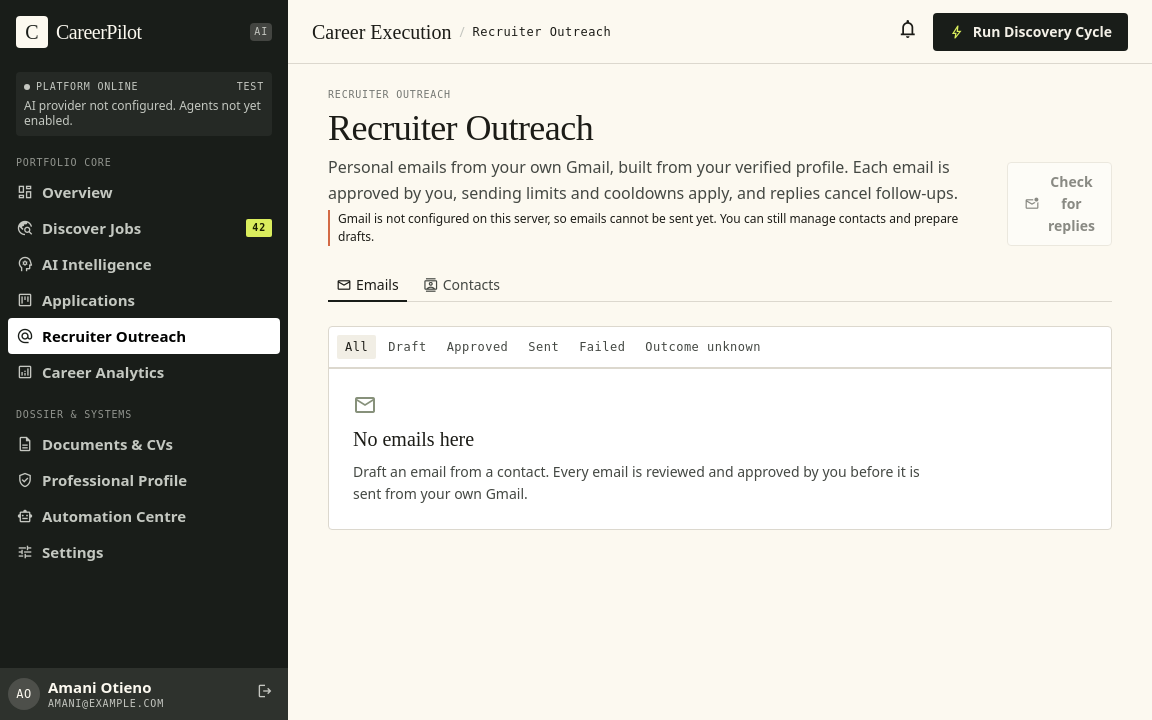
Scenario: recruiter outreach › says honestly when Gmail is not configured and shows where contacts came from
The image size is (1152, 720).
Check: the text "Gmail is not configured on this server" is shown, box top-left (338, 210), bottom-right (958, 245)
Check: the button "Check for replies" is disabled, box top-left (1007, 162), bottom-right (1112, 246)
Click the tab "Contacts".
click(461, 286)  # box top-left (415, 270), bottom-right (508, 302)
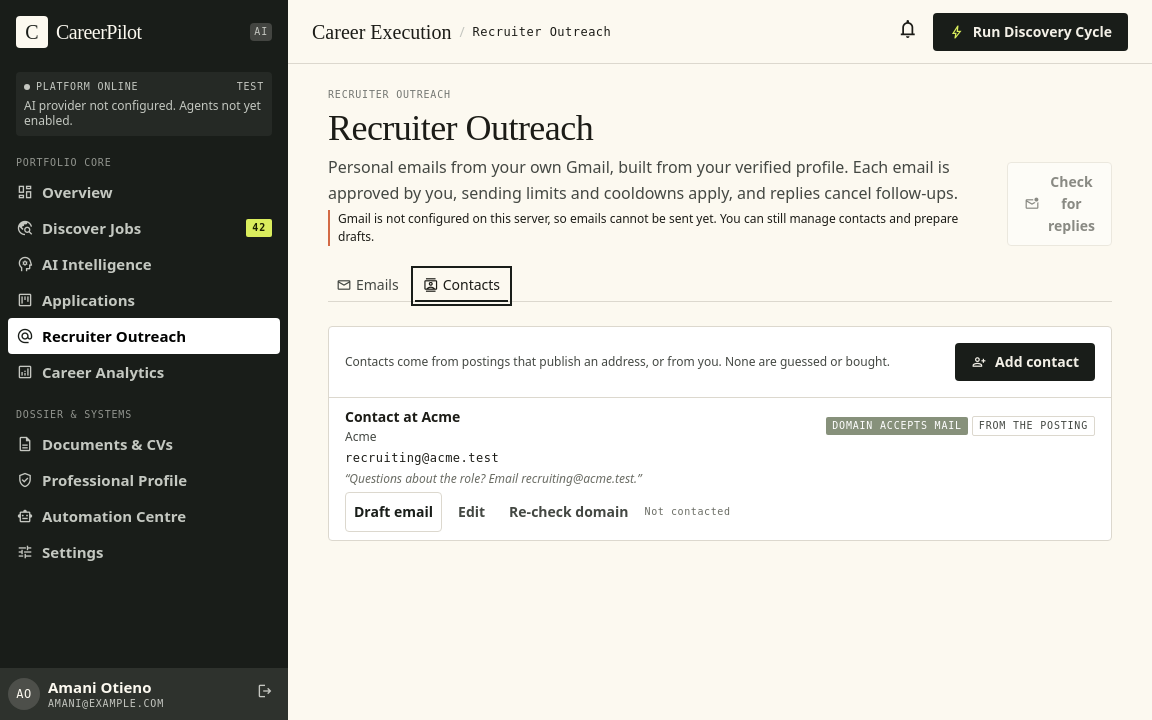
Check: the text "recruiting@acme.test" is shown, box top-left (345, 451), bottom-right (499, 465)
Check: the text "From the posting" is shown, box top-left (972, 416), bottom-right (1095, 436)
Check: the text "Domain accepts mail" is shown, box top-left (826, 417), bottom-right (968, 435)
